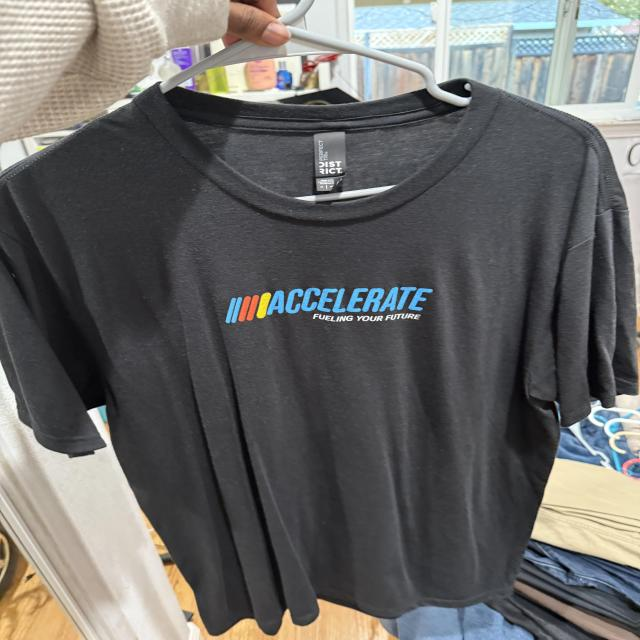back_tag: (306, 126, 359, 198)
